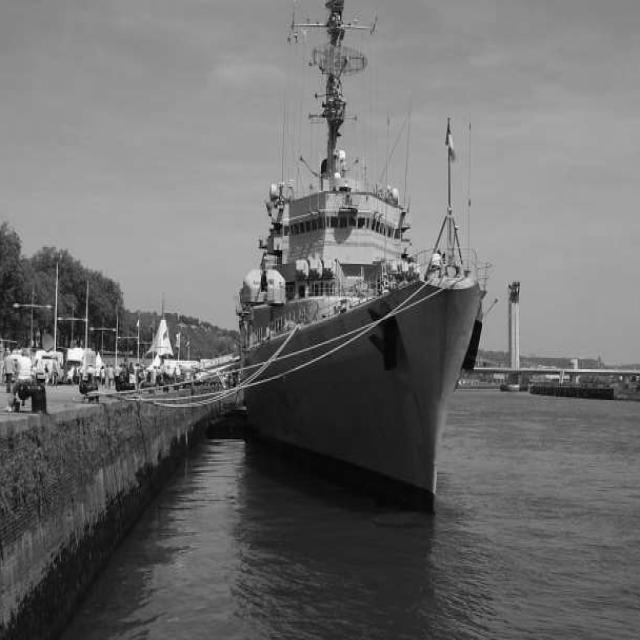Portanaves: (235, 1, 489, 516)
